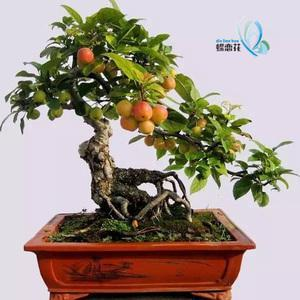apple: (132, 100, 152, 122), (76, 47, 93, 66), (152, 103, 166, 123)
